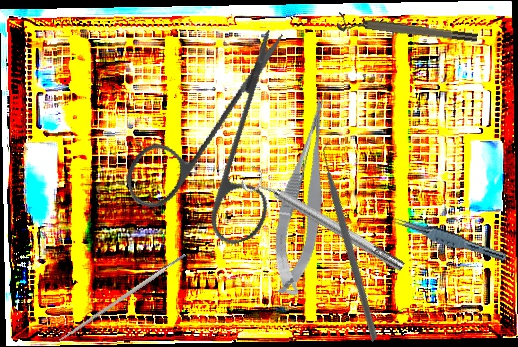Chopper: (249, 135, 458, 342)
Fixation Ring: (238, 162, 410, 281), (336, 11, 479, 51)
Iris Scissors: (95, 26, 342, 271)
Micro Scissor: (257, 94, 354, 299)
Scalpel Handle: (57, 252, 188, 344)
Tissue Forceps: (389, 213, 509, 263)
